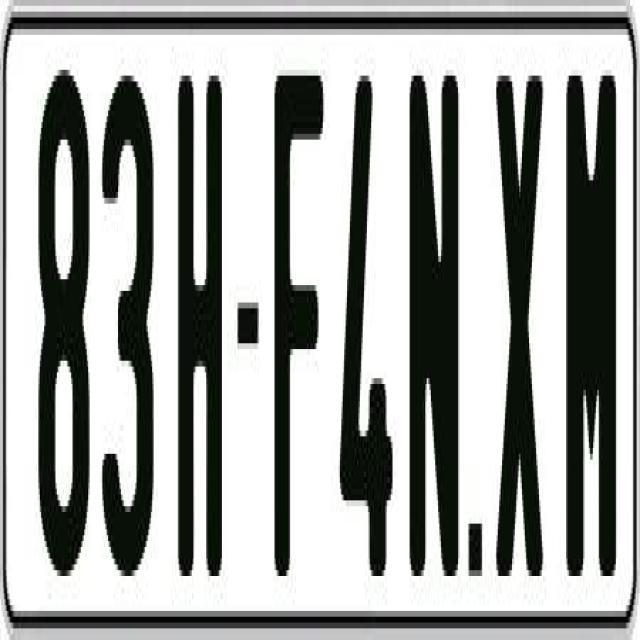3: (100, 75, 156, 606)
4: (337, 70, 395, 588)
8: (36, 70, 92, 594)
F: (270, 64, 319, 588)
H: (176, 58, 226, 559)
M: (564, 58, 616, 588)
N: (406, 58, 459, 559)
X: (494, 75, 550, 588)
